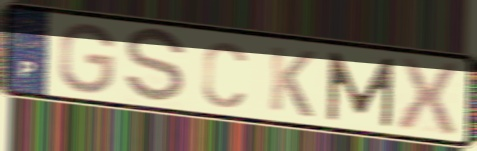C: (199, 38, 250, 110)
G: (56, 21, 118, 97)
K: (266, 43, 318, 121)
M: (325, 49, 397, 130)
S: (122, 26, 189, 107)
X: (395, 54, 461, 138)
